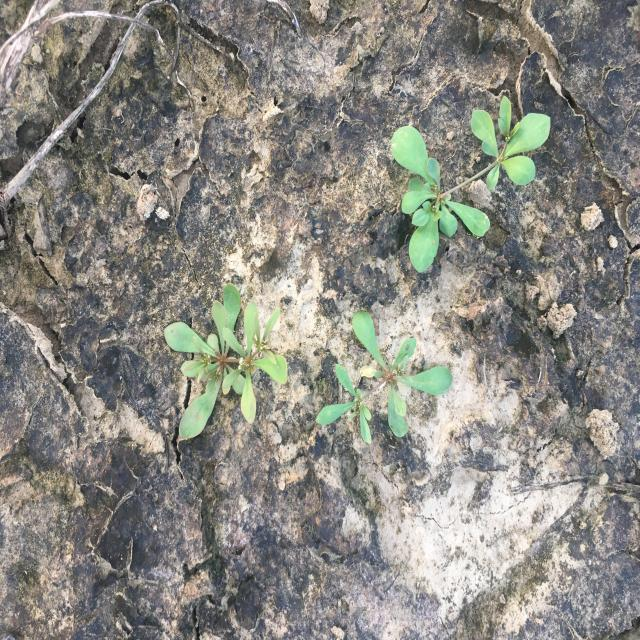Carpetweed: (390, 94, 552, 274), (162, 281, 290, 440), (314, 308, 454, 447)
